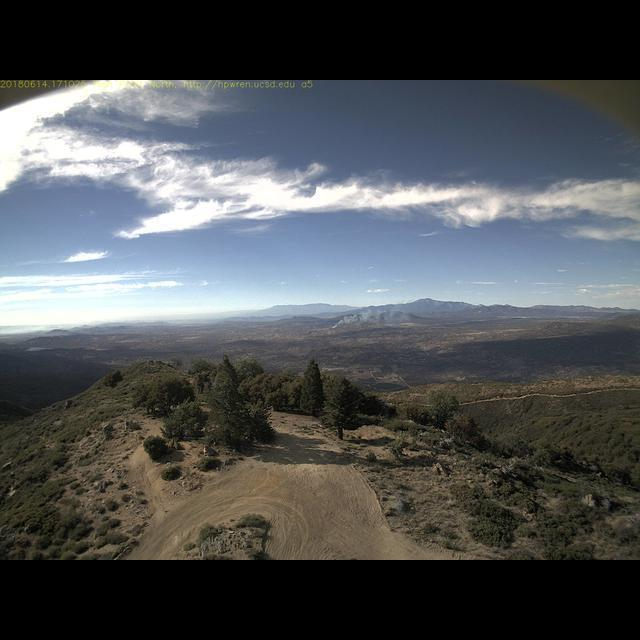Smoke: (320, 302, 413, 333)
